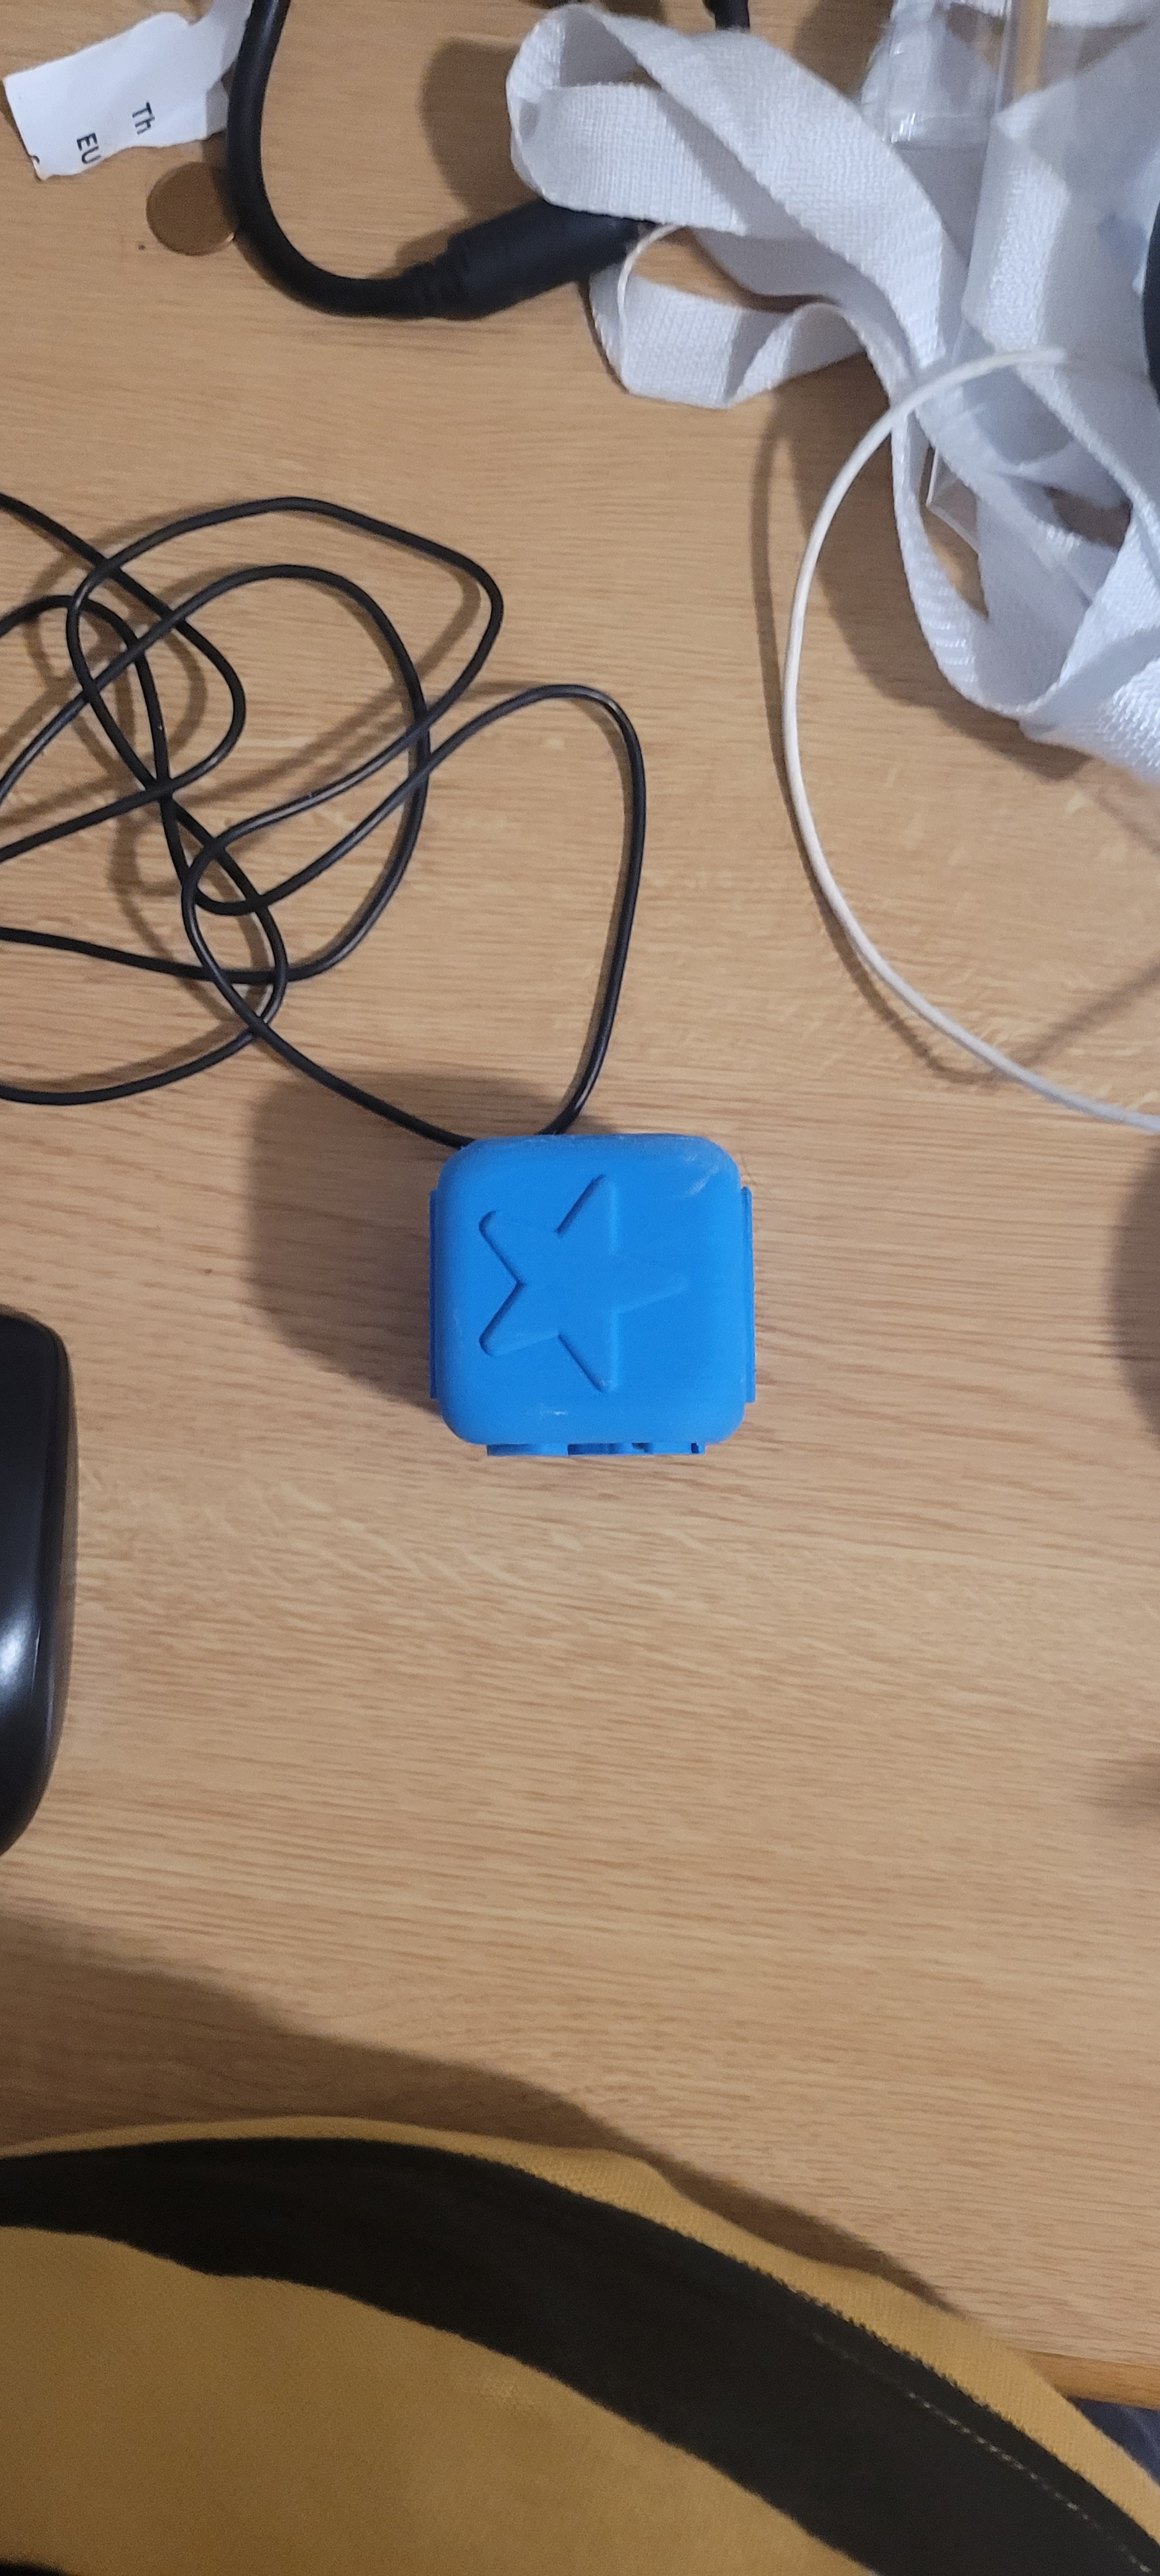Star: (460, 1143, 725, 1428)
